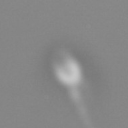normal: (68, 84, 96, 128)
